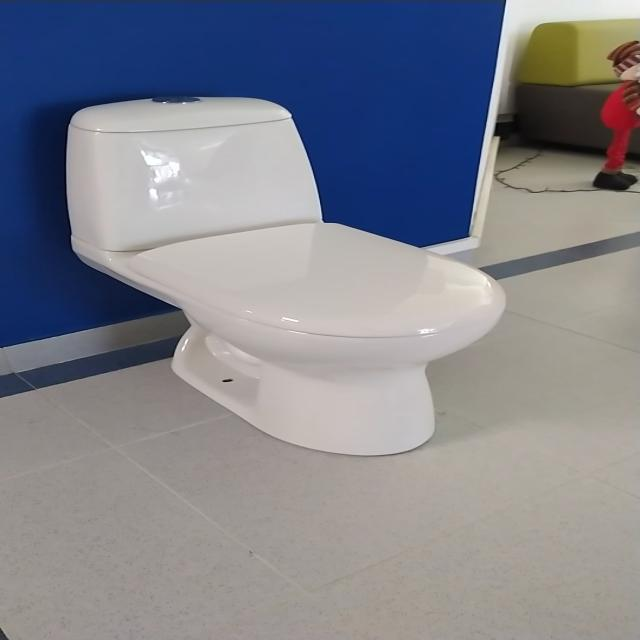toilet: (65, 94, 507, 457)
